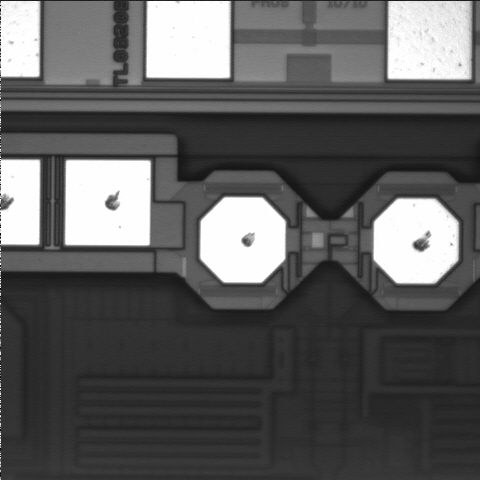pad: (200, 197, 286, 283), (65, 160, 150, 245), (374, 199, 458, 283)
